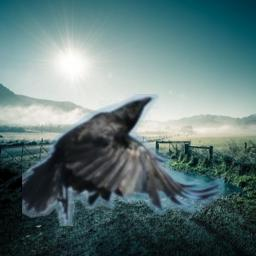Crow: (22, 94, 225, 226)
